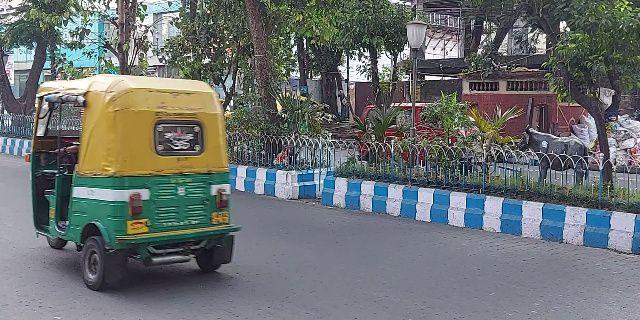Autorickshaw: (26, 75, 241, 294)
